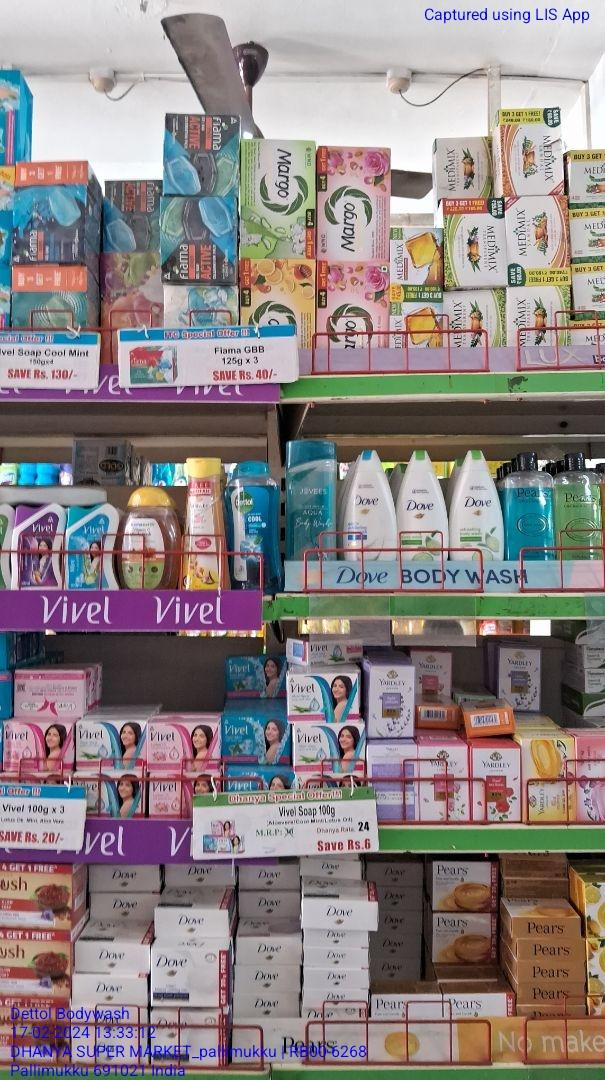Dettol_Bodywash_Cool: (229, 459, 283, 592)
Dove_Deep_Moisture_Body_Wash_250ML: (341, 448, 395, 558)
Dove_Refreshing_Body_Wash_250ML: (398, 450, 449, 564), (452, 448, 503, 560)
Pears_Pure_Glycerin_and_Lemon_Flower_Extracts_Body_Wash_250ML: (558, 450, 603, 556)
Pears_Pure_Glycerin_and_Mint_Extracts_Body_Wash_250ML: (506, 452, 555, 557)
